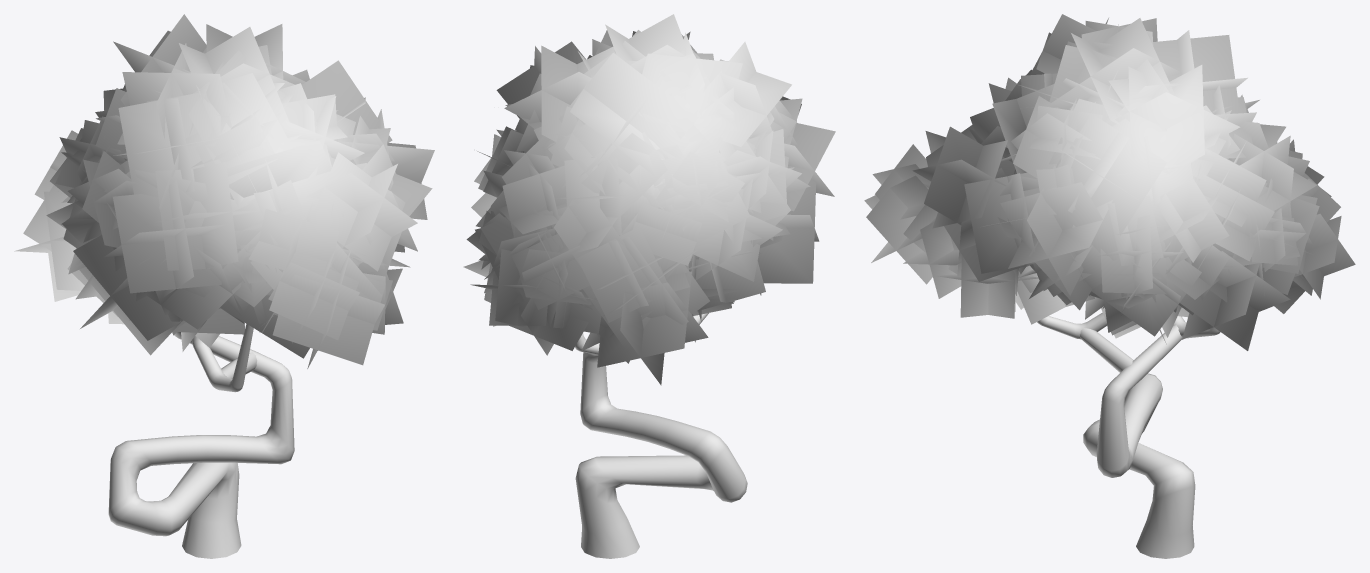
File: STSwiggly3.glb
The picture shows the model from 3 angles, left to right: view 1: azimuth 30°, elevation 25°; view 2: azimuth 150°, elevation 25°; view 3: azimuth 270°, elevation 25°; orthographic projection. The views are drawn at different scales.
Parts seen in each view (by area): view 1: Leaf.031; view 2: Leaf.031; view 3: Leaf.031.
Part boxes in pixels (x1=…): Leaf.031: x1=14, y1=14, x2=434, y2=558; Leaf.031: x1=463, y1=14, x2=835, y2=558; Leaf.031: x1=864, y1=14, x2=1355, y2=558.
Size of the model in its own units: 4.74 by 7.06 by 6.17.
2 materials, 1 textured.
